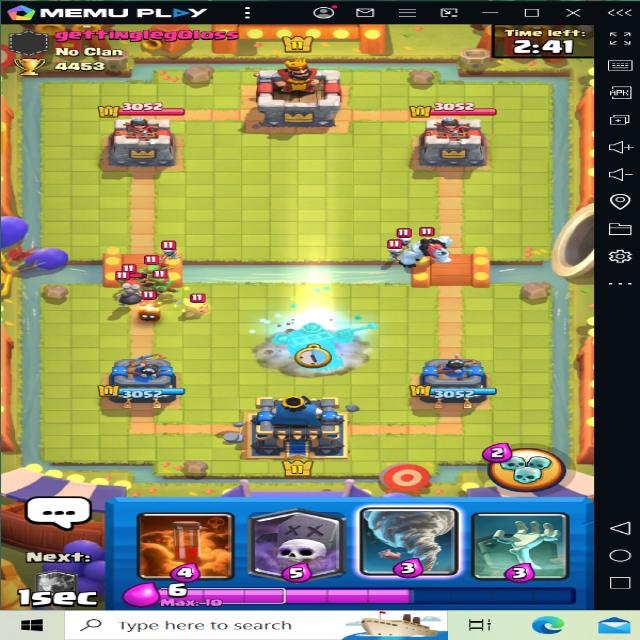bomber: (111, 269, 156, 305)
fire-spirit: (131, 303, 175, 329)
heal-spirit: (186, 290, 223, 319)
ice-golem: (394, 228, 464, 273)
skeleton: (154, 239, 180, 261), (398, 226, 417, 244), (386, 241, 410, 255)
spear-goblin: (140, 251, 170, 283), (146, 270, 182, 290), (118, 263, 144, 283)
